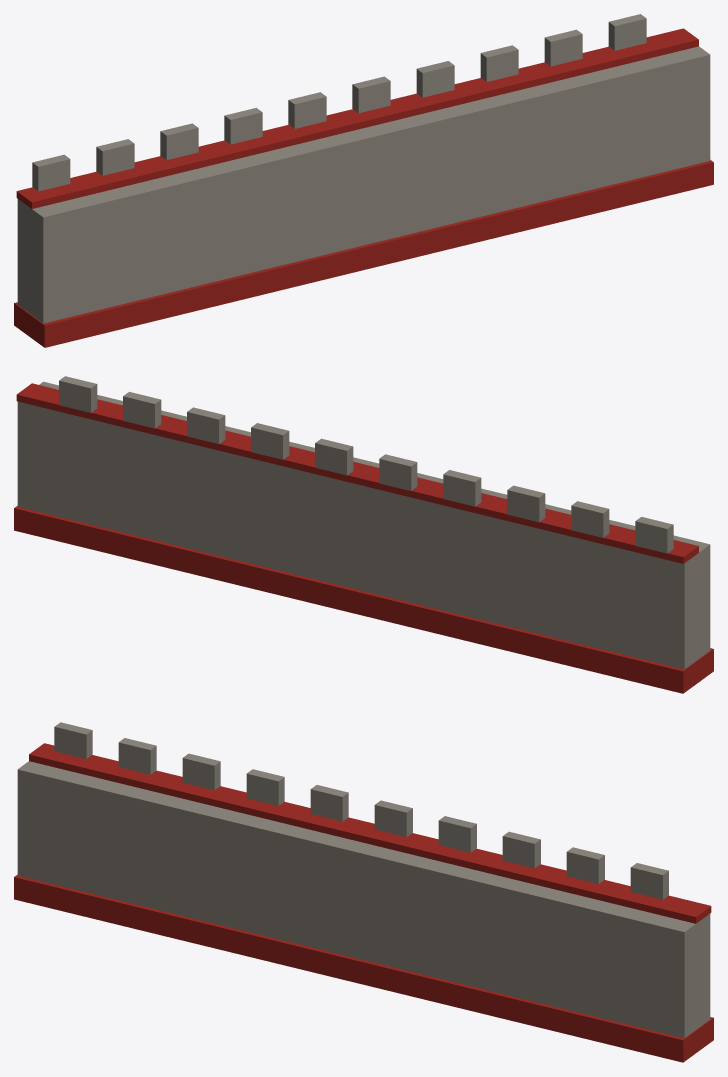
Rendered from dragon_wall_broken.glb.
3 renders of one model, top to bottom at view 1: azimuth 30°, elevation 25°; view 2: azimuth 150°, elevation 25°; view 3: azimuth 330°, elevation 25°, orthographic.
Parts seen in each view (by area): view 1: dragon_wall_piece8, dragon_wall_piece1, dragon_wall_piece11, dragon_wall_piece4, dragon_wall_piece2, dragon_wall_piece7, dragon_wall_piece12, dragon_wall_piece13, dragon_wall_piece9, dragon_wall_piece6, dragon_wall_piece0, dragon_wall_piece5 (+2 smaller); view 2: dragon_wall_piece1, dragon_wall_piece3, dragon_wall_piece13, dragon_wall_piece10, dragon_wall_piece5, dragon_wall_piece6, dragon_wall_piece12, dragon_wall_piece2, dragon_wall_piece9, dragon_wall_piece7; view 3: dragon_wall_piece8, dragon_wall_piece11, dragon_wall_piece4, dragon_wall_piece1, dragon_wall_piece2, dragon_wall_piece7, dragon_wall_piece12, dragon_wall_piece13, dragon_wall_piece9, dragon_wall_piece0, dragon_wall_piece6, dragon_wall_piece5 (+2 smaller).
Part boxes in pixels (bbox=[...]): dragon_wall_piece8: bbox=[566, 31, 713, 218]; dragon_wall_piece1: bbox=[14, 130, 162, 347]; dragon_wall_piece11: bbox=[80, 166, 203, 339]; dragon_wall_piece4: bbox=[152, 158, 320, 321]; dragon_wall_piece2: bbox=[176, 92, 381, 237]; dragon_wall_piece7: bbox=[415, 106, 575, 254]; dragon_wall_piece12: bbox=[462, 29, 611, 190]; dragon_wall_piece13: bbox=[352, 61, 497, 197]; dragon_wall_piece9: bbox=[314, 175, 426, 280]; dragon_wall_piece6: bbox=[147, 127, 264, 273]; dragon_wall_piece0: bbox=[395, 97, 516, 235]; dragon_wall_piece5: bbox=[559, 16, 650, 197]; dragon_wall_piece1: bbox=[536, 497, 713, 693]; dragon_wall_piece3: bbox=[342, 471, 503, 647]; dragon_wall_piece13: bbox=[210, 423, 379, 593]; dragon_wall_piece10: bbox=[14, 376, 127, 558]; dragon_wall_piece5: bbox=[66, 376, 191, 570]; dragon_wall_piece6: bbox=[481, 485, 568, 664]; dragon_wall_piece12: bbox=[123, 391, 239, 541]; dragon_wall_piece2: bbox=[360, 454, 524, 578]; dragon_wall_piece9: bbox=[276, 486, 372, 617]; dragon_wall_piece7: bbox=[179, 505, 270, 593]; dragon_wall_piece8: bbox=[536, 901, 708, 1062]; dragon_wall_piece11: bbox=[49, 778, 177, 925]; dragon_wall_piece4: bbox=[121, 821, 289, 966]; dragon_wall_piece1: bbox=[14, 722, 190, 907]; dragon_wall_piece2: bbox=[203, 757, 367, 916]; dragon_wall_piece7: bbox=[385, 889, 545, 1028]; dragon_wall_piece12: bbox=[488, 831, 604, 994]; dragon_wall_piece13: bbox=[335, 800, 490, 921]; dragon_wall_piece9: bbox=[285, 892, 395, 992]; dragon_wall_piece0: bbox=[369, 873, 490, 967]; dragon_wall_piece6: bbox=[159, 754, 248, 894]; dragon_wall_piece5: bbox=[533, 855, 661, 1005].
Bounding box in the file's own units: 6.27 × 1.43 × 0.5.
